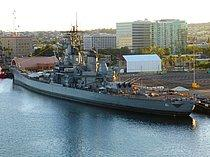MIL_Ship: (10, 31, 197, 120)
